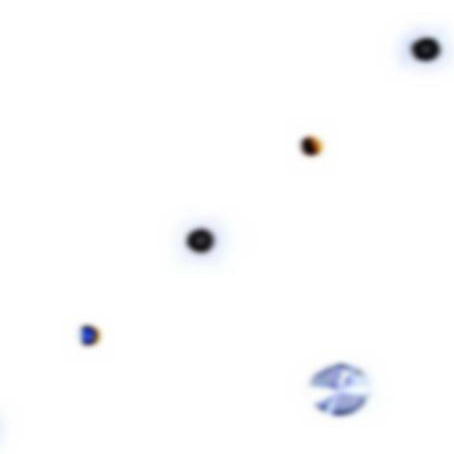abnormal: (293, 348, 379, 428)
cancer: (169, 199, 236, 271), (395, 21, 454, 78)
normal: (289, 128, 331, 166), (70, 318, 107, 355)
